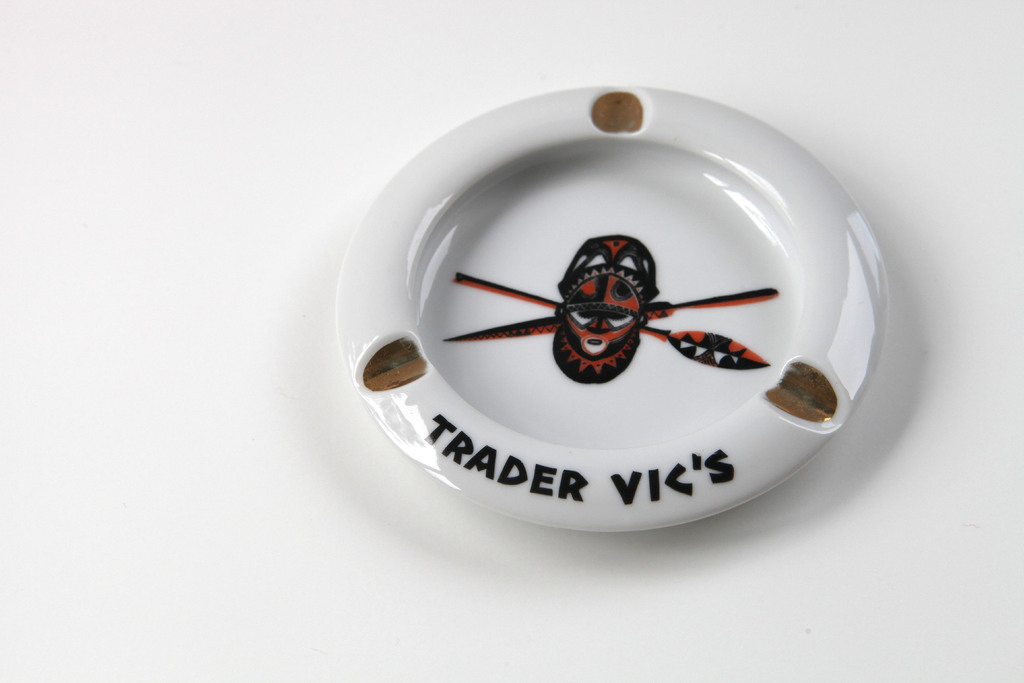plate: (314, 103, 901, 536)
